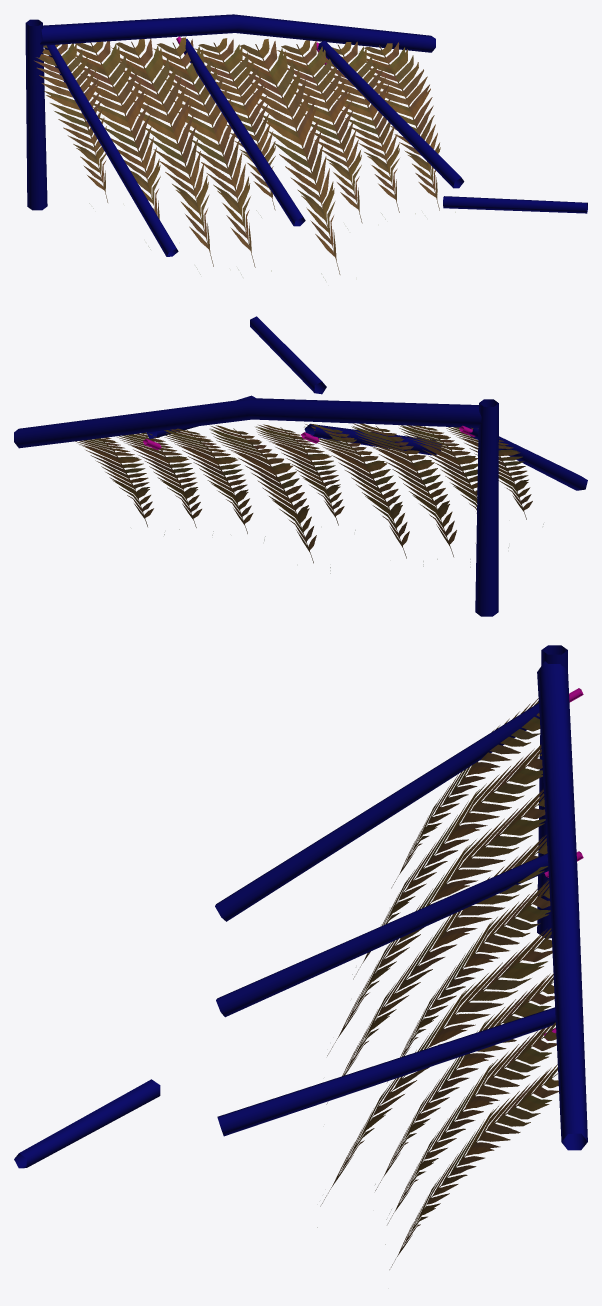
Rendered from PROP_PC_LeanTo.fbx.
3 views of the same model, one above another, from view 1: azimuth 30°, elevation 25°; view 2: azimuth 150°, elevation 25°; view 3: azimuth 270°, elevation 25° (orthographic). The views are drawn at different scales.
Parts seen in each view (by area): view 1: PROP_PC_LeanTo_LOD0; view 2: PROP_PC_LeanTo_LOD0; view 3: PROP_PC_LeanTo_LOD0.
Boxes of the visible parts, x1,y1,x2,y2 form: PROP_PC_LeanTo_LOD0: [25, 14, 587, 280]; PROP_PC_LeanTo_LOD0: [14, 316, 587, 616]; PROP_PC_LeanTo_LOD0: [14, 645, 587, 1269].
Size of what is drawn, in the model's own units: 3.5 by 1.98 by 2.59.
